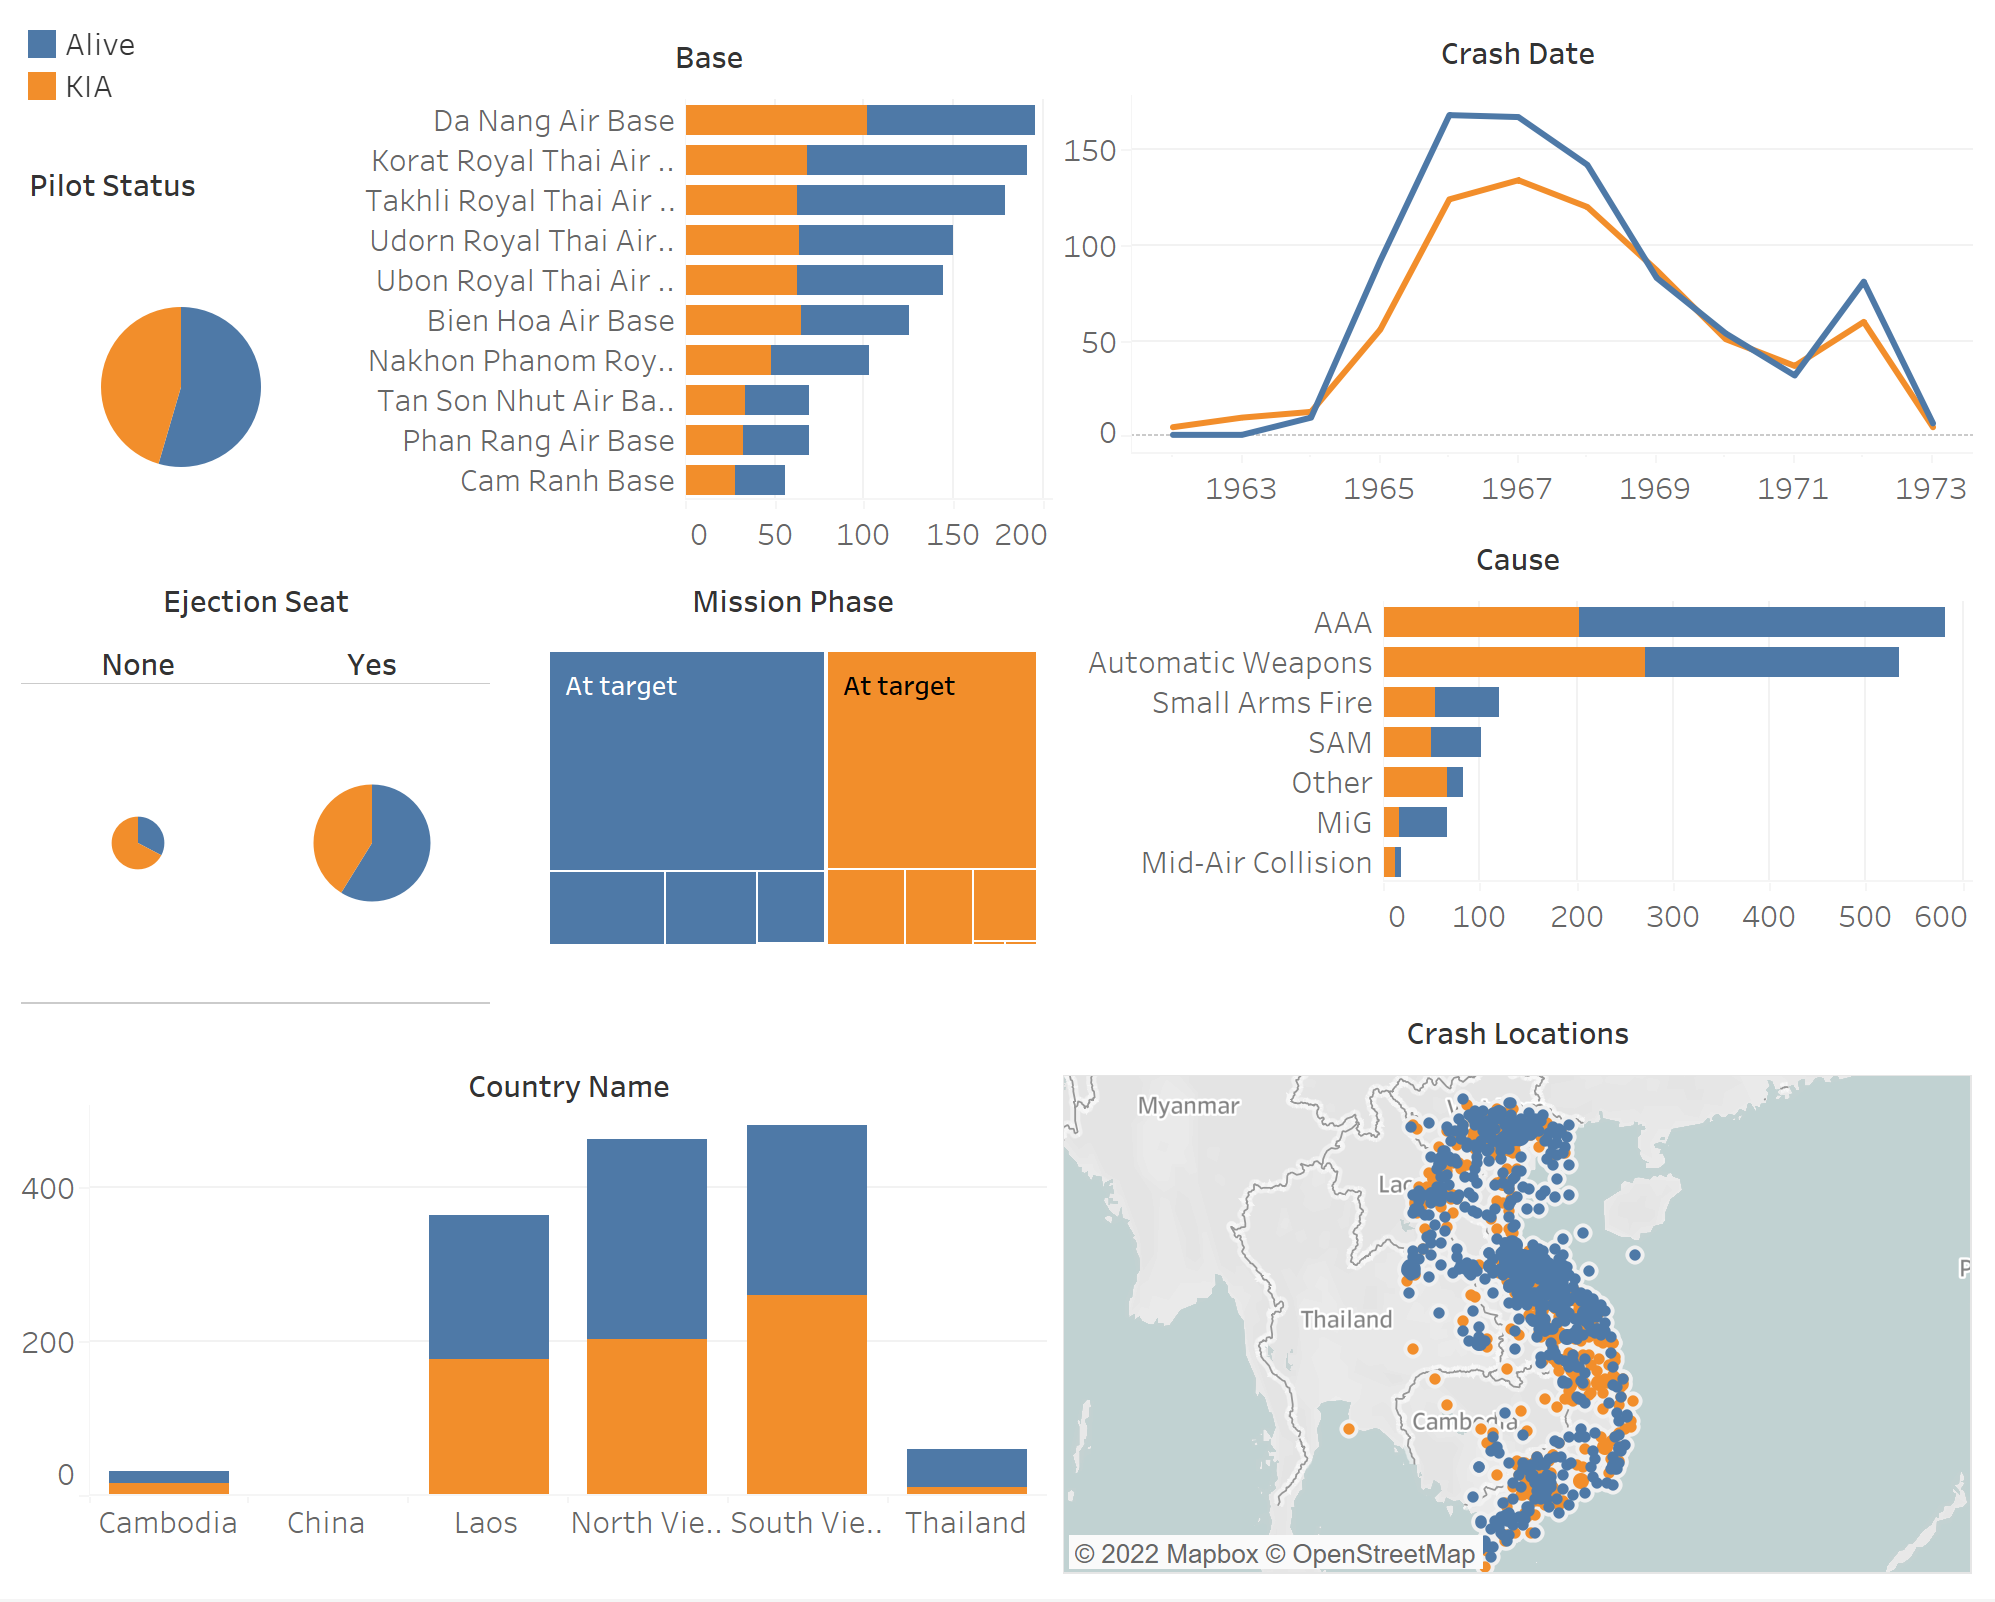

This screenshot's page, from the dashboard's own definition file:
{"tool":"tableau","page":{"name":"Initial Dashboard","canvas":[1000,800],"ordinal":1},"visuals":[{"type":"legend","title":"New Pilot Status","param":"[federated.0n6zx500ebu2oe1h22k2o075fq4x].[none:Calculation_1154610380196143105:n","box":[8,8,520.9,66]},{"type":"worksheet","title":"Crash Date","mark":"Automatic","rows":["usaf_table_354C9DC17F7A4006B49C436B890E6EB9"],"cols":["Crash_Date"],"box":[528.9,8,463.1,253]},{"type":"worksheet","title":"Top Bases","mark":"Automatic","rows":["base_name"],"cols":["usaf_table_354C9DC17F7A4006B49C436B890E6EB9"],"box":[184,14,344,278]},{"type":"worksheet","title":"New Pilot Status","mark":"Pie","box":[8,74,520.9,208]},{"type":"worksheet","title":"Defense Type","mark":"Automatic","rows":["defense_type_new"],"cols":["usaf_table_354C9DC17F7A4006B49C436B890E6EB9"],"box":[528.9,261,463.1,237]},{"type":"worksheet","title":"Ejection Seat","mark":"Pie","cols":["ejection_seats"],"box":[8,282,260.5,232]},{"type":"worksheet","title":"Mission Phase (2)","mark":"Automatic","box":[268.5,282,260.4,232]},{"type":"worksheet","title":"Crash Locations","mark":"Automatic","rows":["Latitude (loss_locations_table)"],"cols":["Longitude (loss_locations_table)"],"box":[528.9,498,463.1,294]},{"type":"worksheet","title":"Loss_Country","mark":"Automatic","rows":["usaf_table_354C9DC17F7A4006B49C436B890E6EB9"],"cols":["country_name"],"box":[8,514,520.9,278]}]}

Visuals, with their boxes in screenshot pixels (x1, y1, x2, y2), scaled from the page's 1000x800 canvas onto the 1995x1602 screenshot:
"New Pilot Status" legend: bbox(16, 16, 1055, 148)
"Crash Date" worksheet: bbox(1055, 16, 1979, 523)
"Top Bases" worksheet: bbox(367, 28, 1053, 585)
"New Pilot Status" worksheet (Pie marks): bbox(16, 148, 1055, 565)
"Defense Type" worksheet: bbox(1055, 523, 1979, 997)
"Ejection Seat" worksheet (Pie marks): bbox(16, 565, 536, 1029)
"Mission Phase (2)" worksheet: bbox(536, 565, 1055, 1029)
"Crash Locations" worksheet: bbox(1055, 997, 1979, 1586)
"Loss_Country" worksheet: bbox(16, 1029, 1055, 1586)
